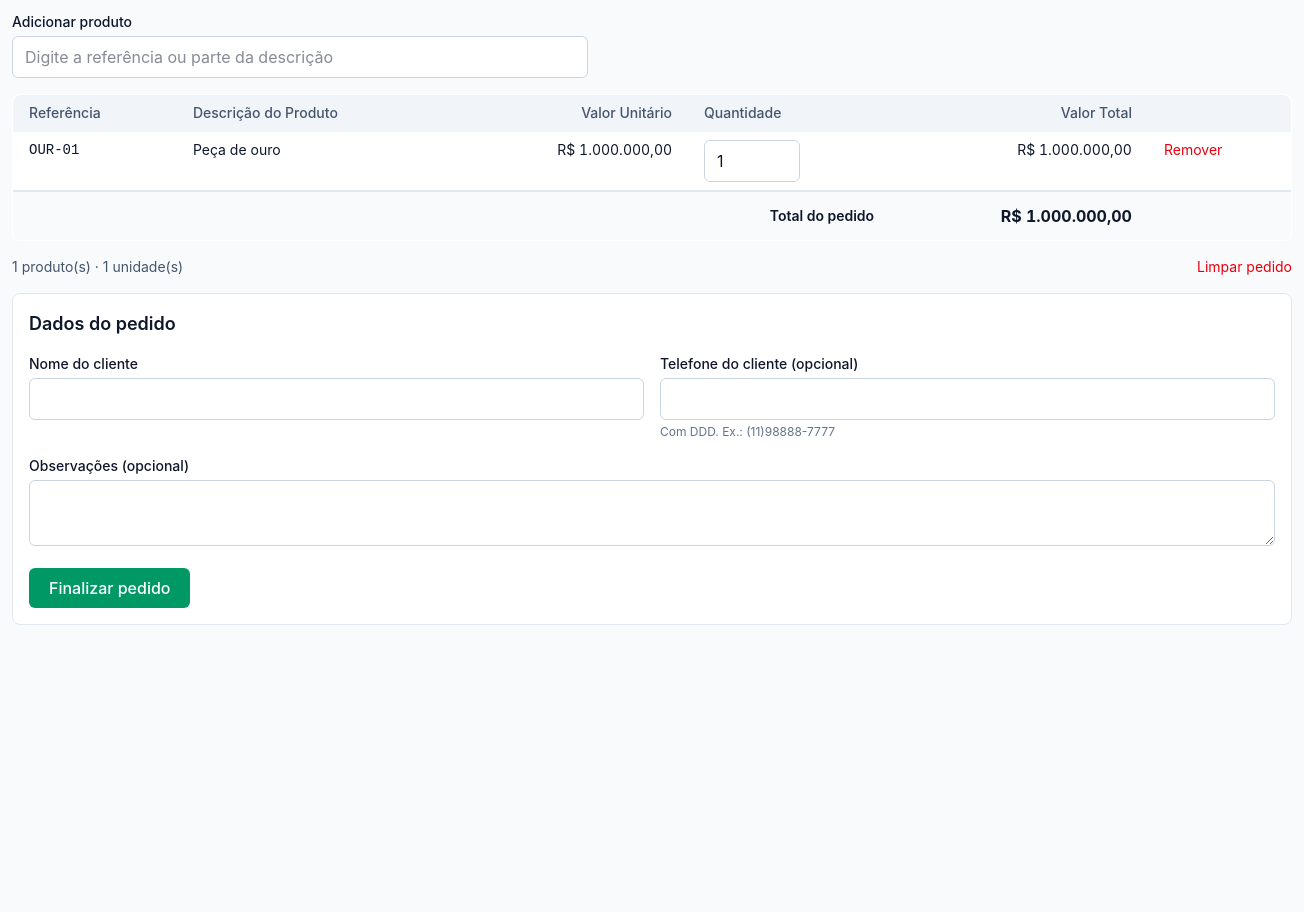
Test case: edição e cálculo automático › total acima do limite: alerta, não salva
The width and height of the screenshot is (1304, 912).
Later steps or results of the test are not shown.
Replace the text in the field named "Quantidade de OUR-01" with "30" at (752, 161), box 704,140 -> 800,182
Wait 1200 ms
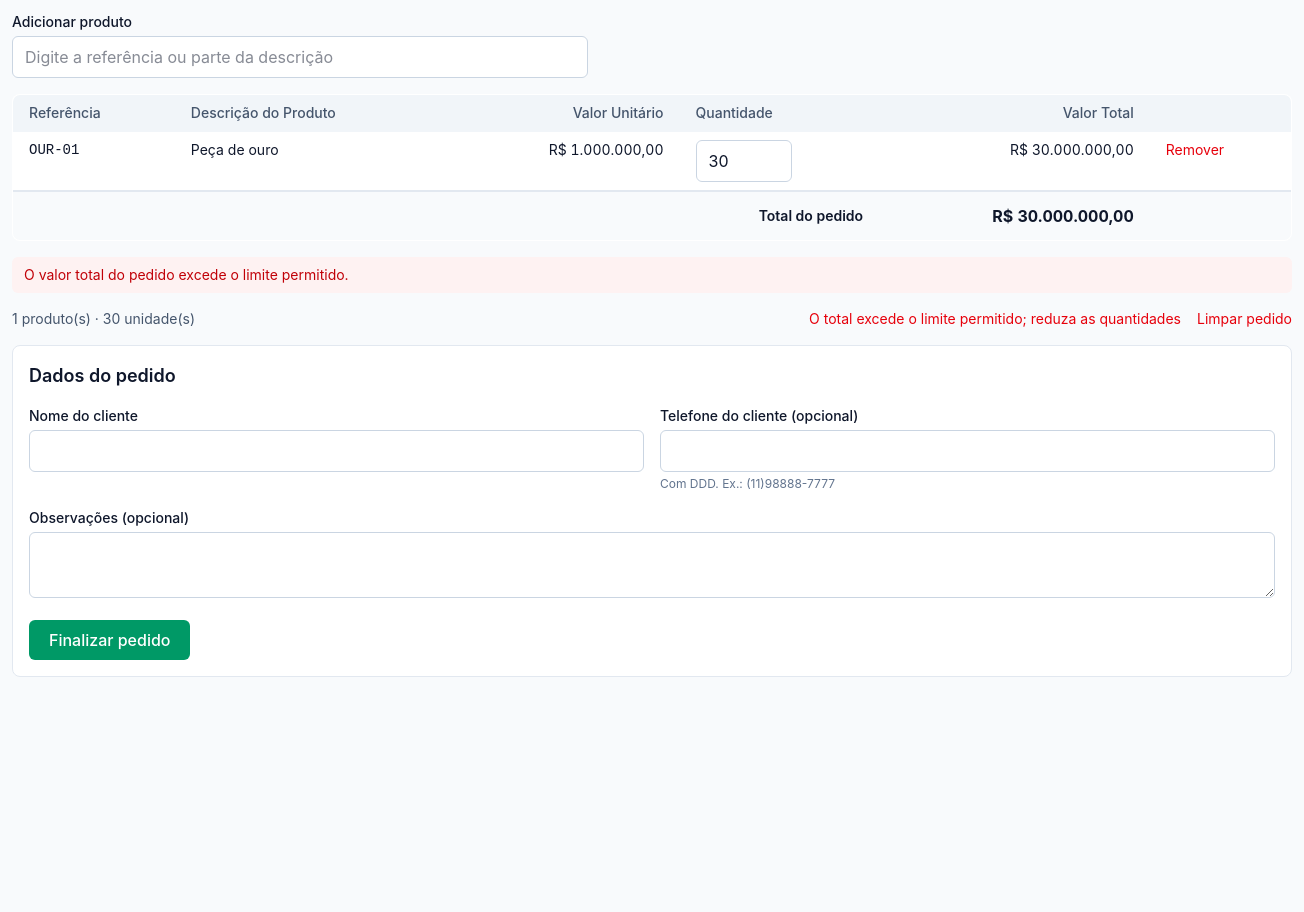
expect the message with test id "save-status" reads "O total excede o limite permitido; reduza as quantidades": met, box 809,310 -> 1181,327
